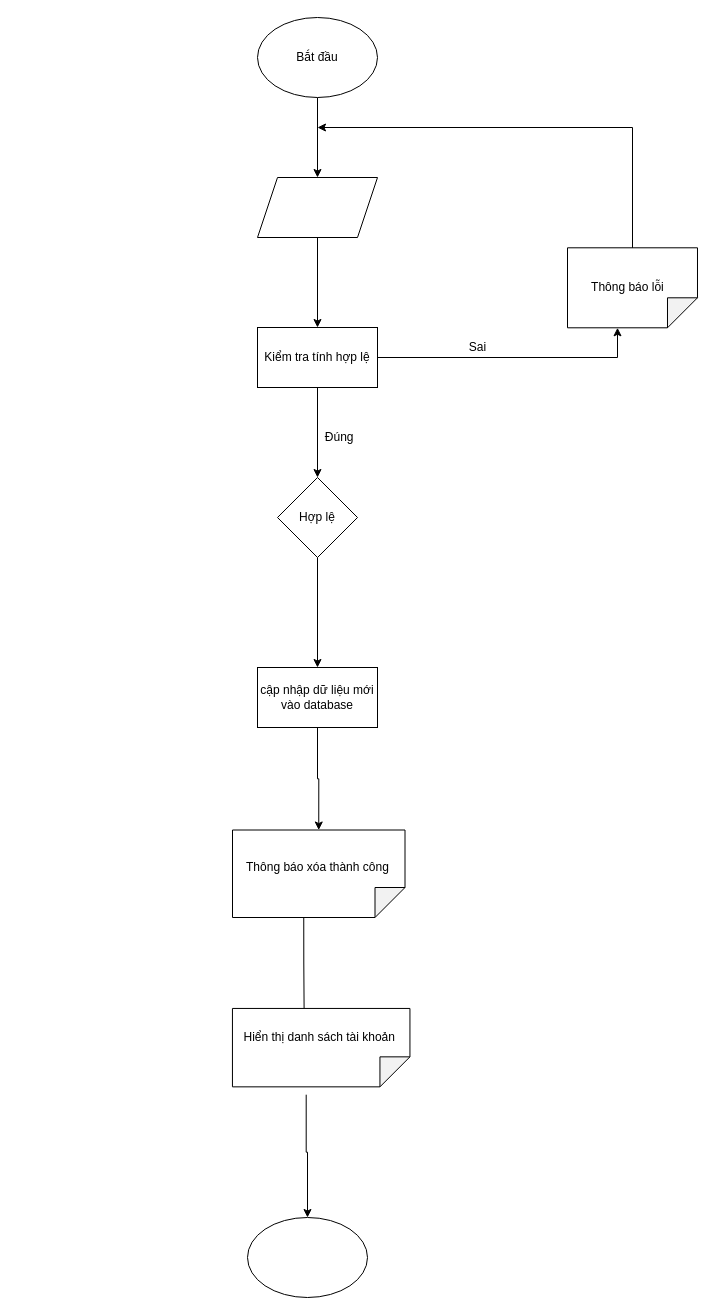
This 715x1315 diagram has some shape labels left out. Each missing label, with the centre of its shape:
"Kết thúc" belongs at point 307,1257.
"Xóa tài khoản" belongs at point 317,207.
